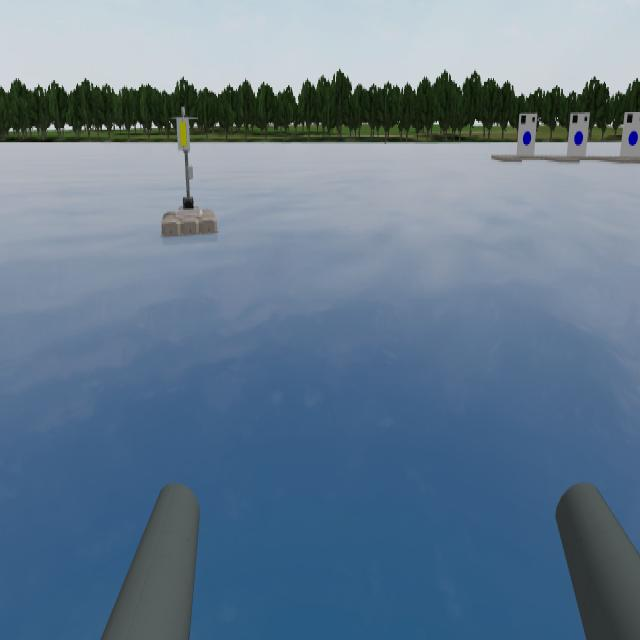yellow_pole: (175, 110, 195, 157)
